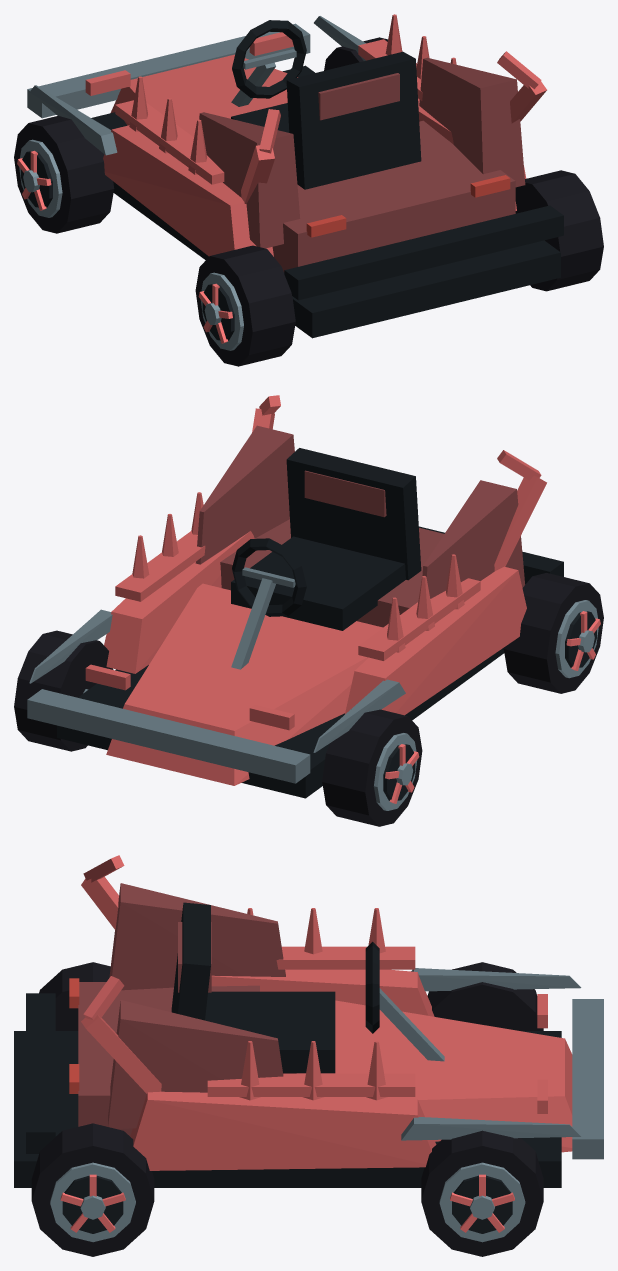
The model's file is kart.glb.
3 renders of one model, top to bottom at view 1: azimuth 30°, elevation 25°; view 2: azimuth 150°, elevation 25°; view 3: azimuth 270°, elevation 25°, orthographic. The views are drawn at different scales.
Parts seen in each view (by area): view 1: chassis, wheel-rear-left, wheel-front-left, wheel-rear-right, wheel-front-right; view 2: chassis, wheel-front-left, wheel-rear-left, wheel-front-right; view 3: chassis, wheel-rear-right, wheel-front-right, wheel-front-left, wheel-rear-left.
Part boxes in pixels (x1,y1,x2,y2): chassis: (27, 14, 563, 338); wheel-rear-left: (195, 245, 295, 366); wheel-front-left: (14, 115, 114, 233); wheel-rear-right: (515, 170, 603, 291); wheel-front-right: (324, 37, 387, 70); chassis: (27, 395, 563, 798); wheel-front-left: (322, 709, 422, 826); wheel-rear-left: (503, 573, 603, 693); wheel-front-right: (14, 630, 113, 751); chassis: (14, 855, 603, 1187); wheel-rear-right: (31, 1123, 154, 1256); wheel-front-right: (421, 1130, 543, 1256); wheel-front-left: (427, 962, 543, 1030); wheel-rear-left: (39, 962, 110, 1030).
Bounding box in the file's own units: 2.37 × 1.38 × 2.99.
